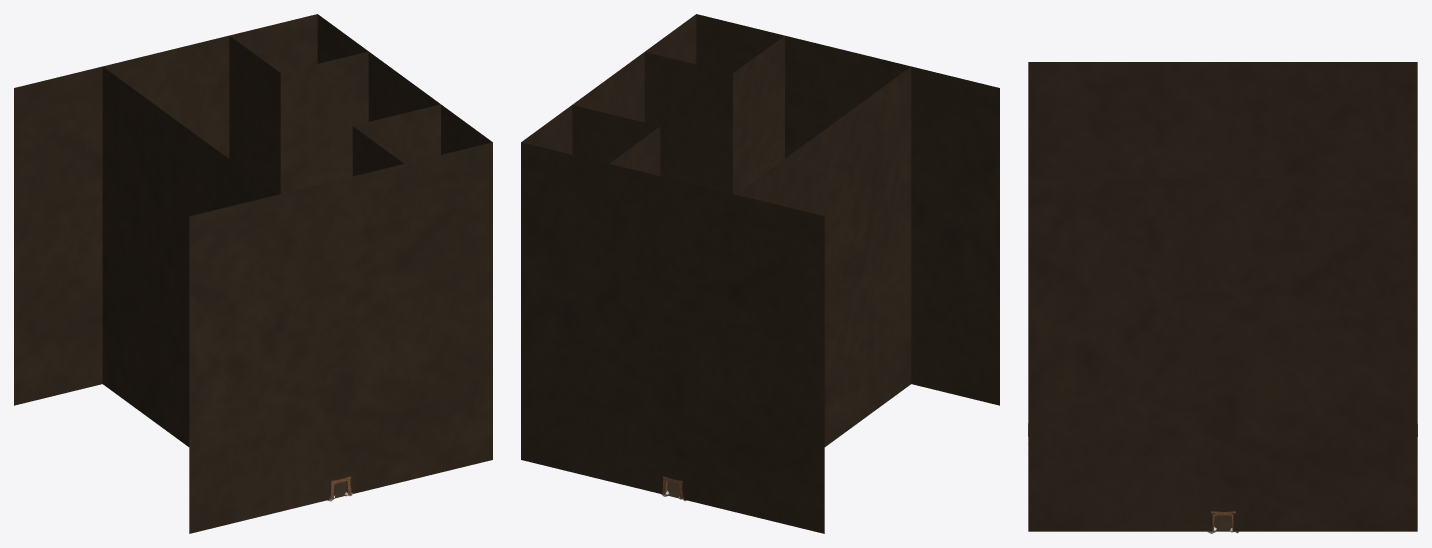
Rendered from Room002(1).fbx.
3 renders of one model, left to right at view 1: azimuth 30°, elevation 25°; view 2: azimuth 150°, elevation 25°; view 3: azimuth 270°, elevation 25°, orthographic. The views are drawn at different scales.
Visible parts, largest first — view 1: 4ParedN, 2ParedS, 3ParedSinPuertaE, 1ParedSinPuertaW.003, 1ParedW, 1ParedSinPuertaW.001, 4Pared.001N, 4Pared.002N, 2Pared.001S; view 2: 2ParedS, 4ParedN, 3ParedSinPuertaE, 1ParedSinPuertaW.001, 1ParedW, 1ParedSinPuertaW.003, 2Pared.001S, 2Pared.002S, 4Pared.001N; view 3: 1ParedW, 3ParedSinPuertaE, 1ParedSinPuertaW.001, 1ParedSinPuertaW.003, 1Pared.001W, 1Pared.002W.
Boxes of the visible parts, x1=… form: 4ParedN: x1=189, y1=142, x2=492, y2=517; 2ParedS: x1=14, y1=14, x2=317, y2=389; 3ParedSinPuertaE: x1=102, y1=67, x2=277, y2=446; 1ParedSinPuertaW.003: x1=229, y1=35, x2=368, y2=194; 1ParedW: x1=317, y1=14, x2=492, y2=154; 1ParedSinPuertaW.001: x1=352, y1=104, x2=440, y2=176; 4Pared.001N: x1=189, y1=483, x2=331, y2=533; 4Pared.002N: x1=350, y1=444, x2=492, y2=494; 2Pared.001S: x1=14, y1=368, x2=102, y2=405; 2ParedS: x1=521, y1=142, x2=824, y2=517; 4ParedN: x1=696, y1=14, x2=999, y2=389; 3ParedSinPuertaE: x1=736, y1=67, x2=911, y2=446; 1ParedSinPuertaW.001: x1=644, y1=36, x2=784, y2=194; 1ParedW: x1=521, y1=14, x2=696, y2=154; 1ParedSinPuertaW.003: x1=572, y1=105, x2=660, y2=175; 2Pared.001S: x1=682, y1=483, x2=824, y2=533; 2Pared.002S: x1=521, y1=444, x2=663, y2=494; 4Pared.001N: x1=911, y1=368, x2=999, y2=405; 1ParedW: x1=1028, y1=178, x2=1417, y2=513; 3ParedSinPuertaE: x1=1028, y1=62, x2=1417, y2=178; 1ParedSinPuertaW.001: x1=1028, y1=130, x2=1143, y2=178; 1ParedSinPuertaW.003: x1=1304, y1=130, x2=1417, y2=178; 1Pared.001W: x1=1233, y1=514, x2=1417, y2=531; 1Pared.002W: x1=1028, y1=514, x2=1212, y2=531.
Size of the model in its own units: 9600 by 9693 by 9608.
